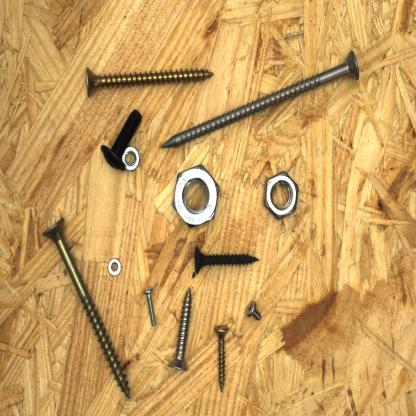screw: (159, 47, 363, 151), (39, 214, 132, 402), (84, 64, 217, 100), (98, 106, 144, 173), (192, 241, 262, 279), (166, 285, 194, 373), (213, 321, 231, 394), (142, 285, 160, 327), (244, 297, 264, 322)
